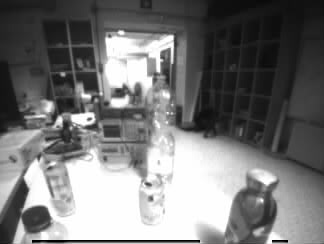Bottle: (229, 174, 276, 244), (148, 76, 172, 178), (20, 208, 68, 244)
Tin can: (43, 164, 76, 215), (141, 177, 165, 222)
